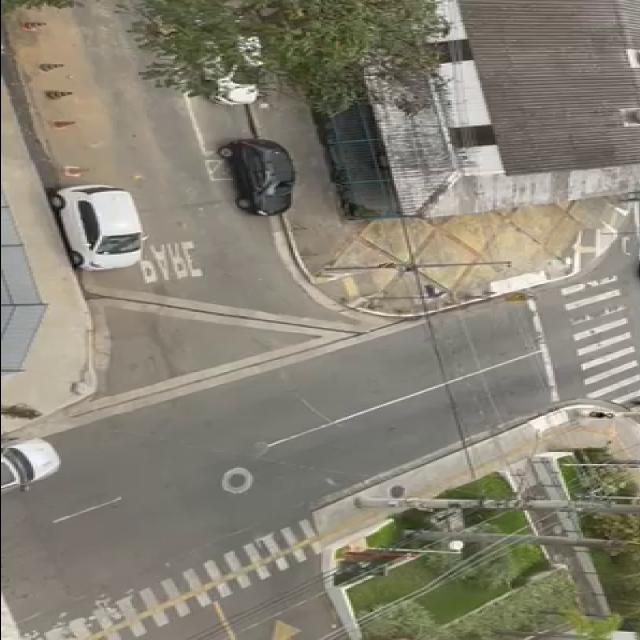car: (47, 182, 155, 272), (212, 137, 302, 215), (0, 434, 65, 498)
